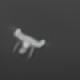plane: (10, 25, 49, 59)
